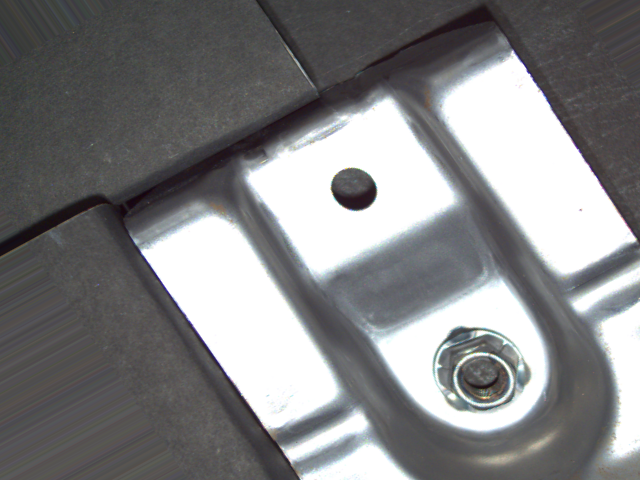good: (431, 322, 536, 420)
